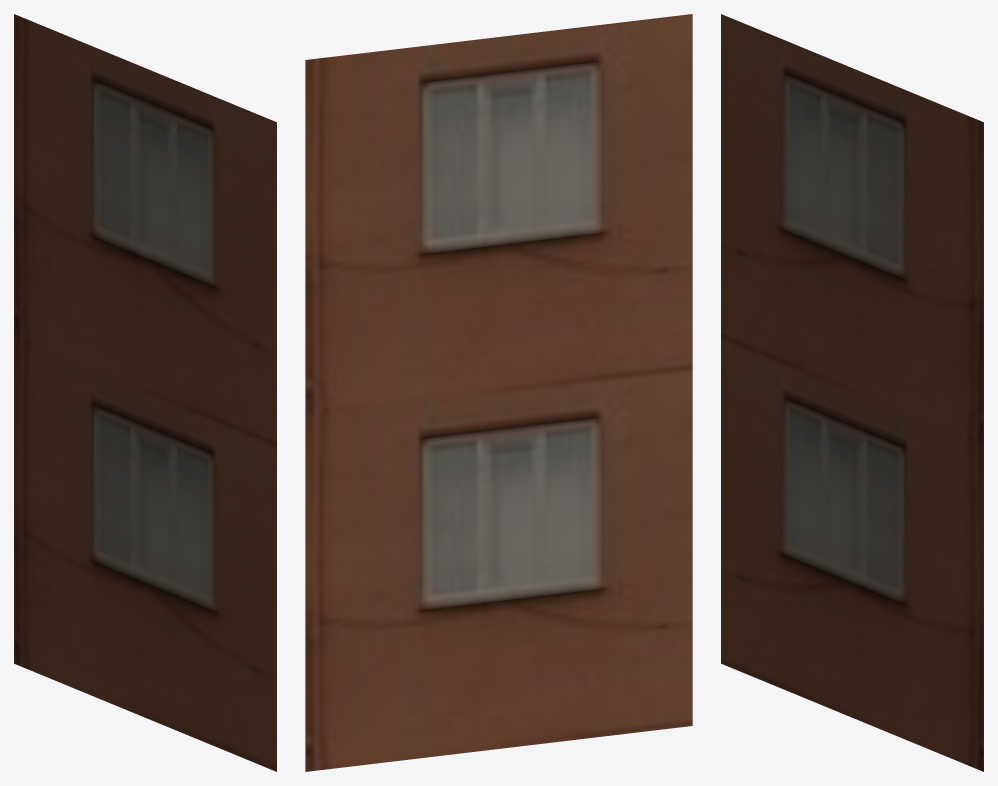
File: ResTex__3667.fbx
3 views of the same model, side by side, from view 1: azimuth 90°, elevation 25°; view 2: azimuth 150°, elevation 25°; view 3: azimuth 270°, elevation 25° (orthographic). The views are drawn at different scales.
Visible parts, largest first — view 1: CityEngineMaterial_20_m; view 2: CityEngineMaterial_20_m; view 3: CityEngineMaterial_20_m.
Part boxes in pixels (<box>): CityEngineMaterial_20_m: <box>14,14,276,771</box>; CityEngineMaterial_20_m: <box>305,14,692,771</box>; CityEngineMaterial_20_m: <box>721,14,983,771</box>.
Size of the model in its own units: 2.14 by 6 by 2.2.
1 material, 1 textured.
